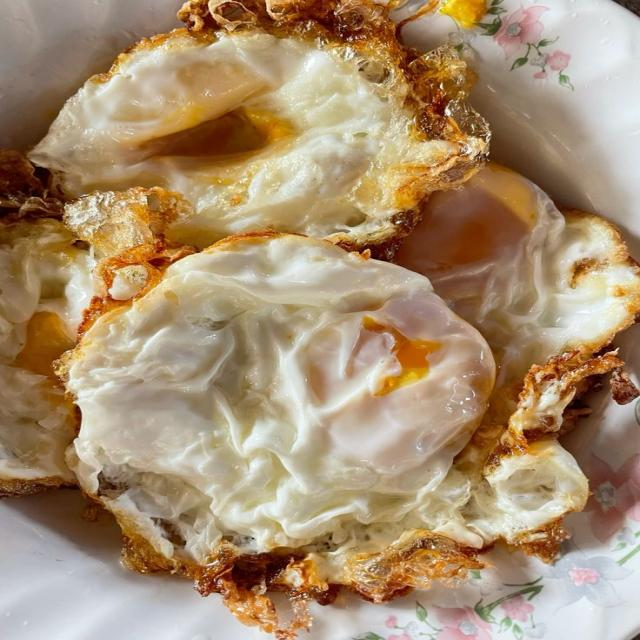fryed egg: (65, 235, 493, 566), (30, 2, 486, 247), (396, 163, 639, 386), (0, 218, 93, 495)
